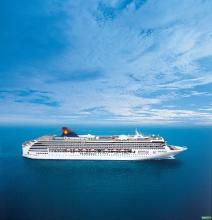youlun: (15, 121, 184, 165)
